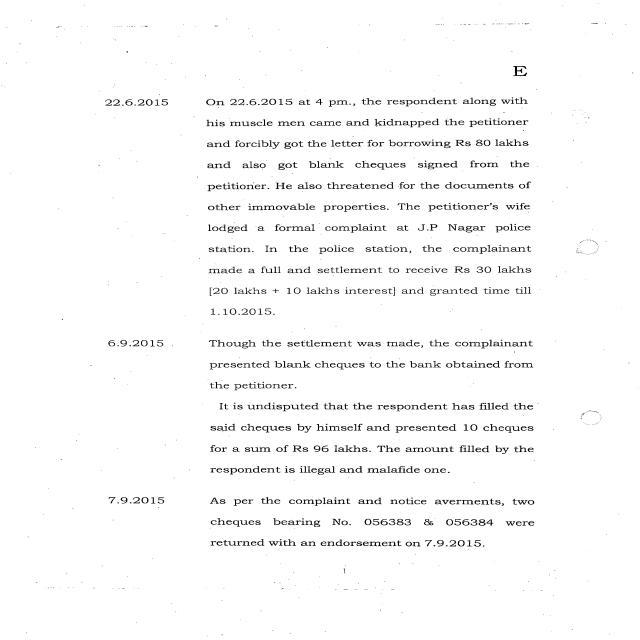page-number: (451, 28, 621, 92)
